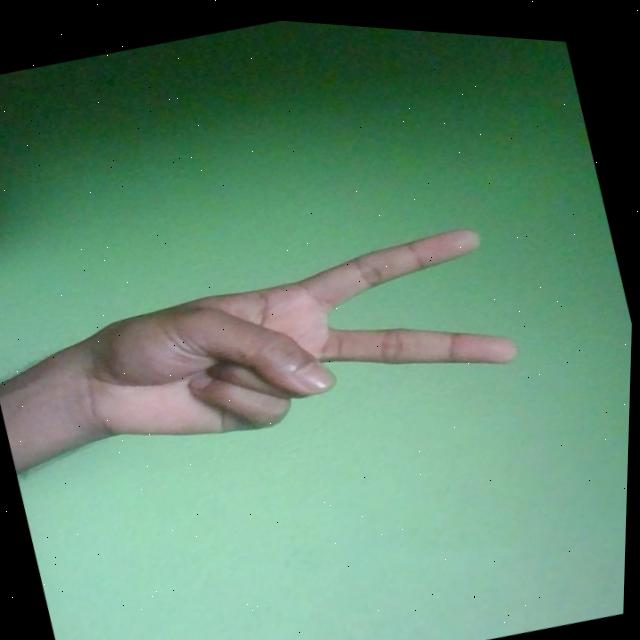Peace: (52, 188, 531, 485)
